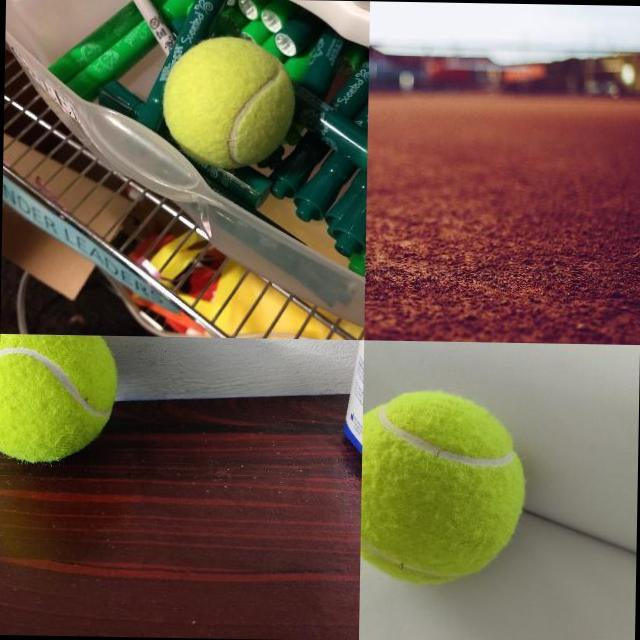Tennis Ball: (360, 387, 528, 588), (160, 34, 299, 170), (0, 333, 118, 464)
